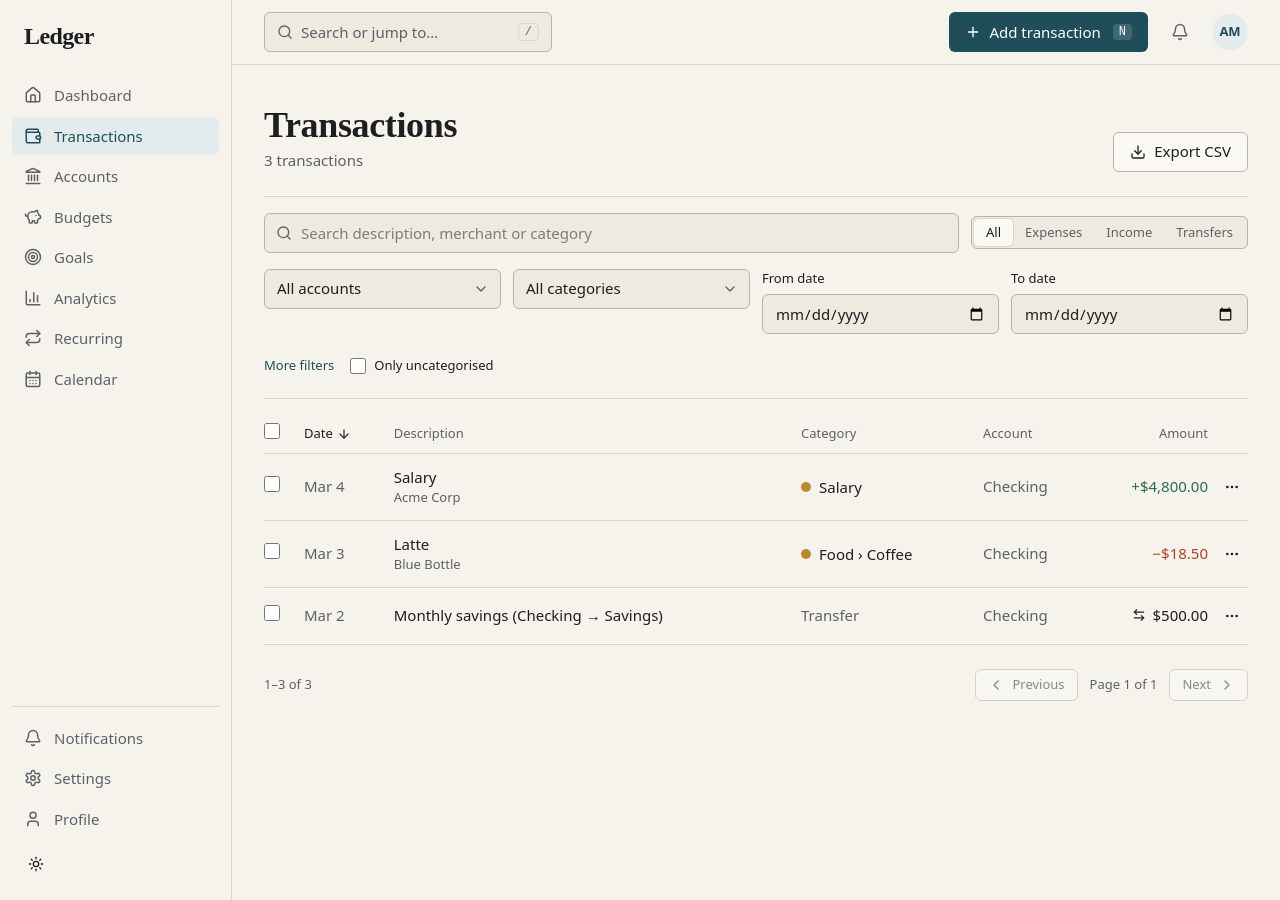
transactions list › rolls the row back and explains when the server refuses
This screenshot has width=1280, height=900.
Click the button named "Actions for Latte".
click(1232, 554)  # box [1216, 538, 1248, 570]
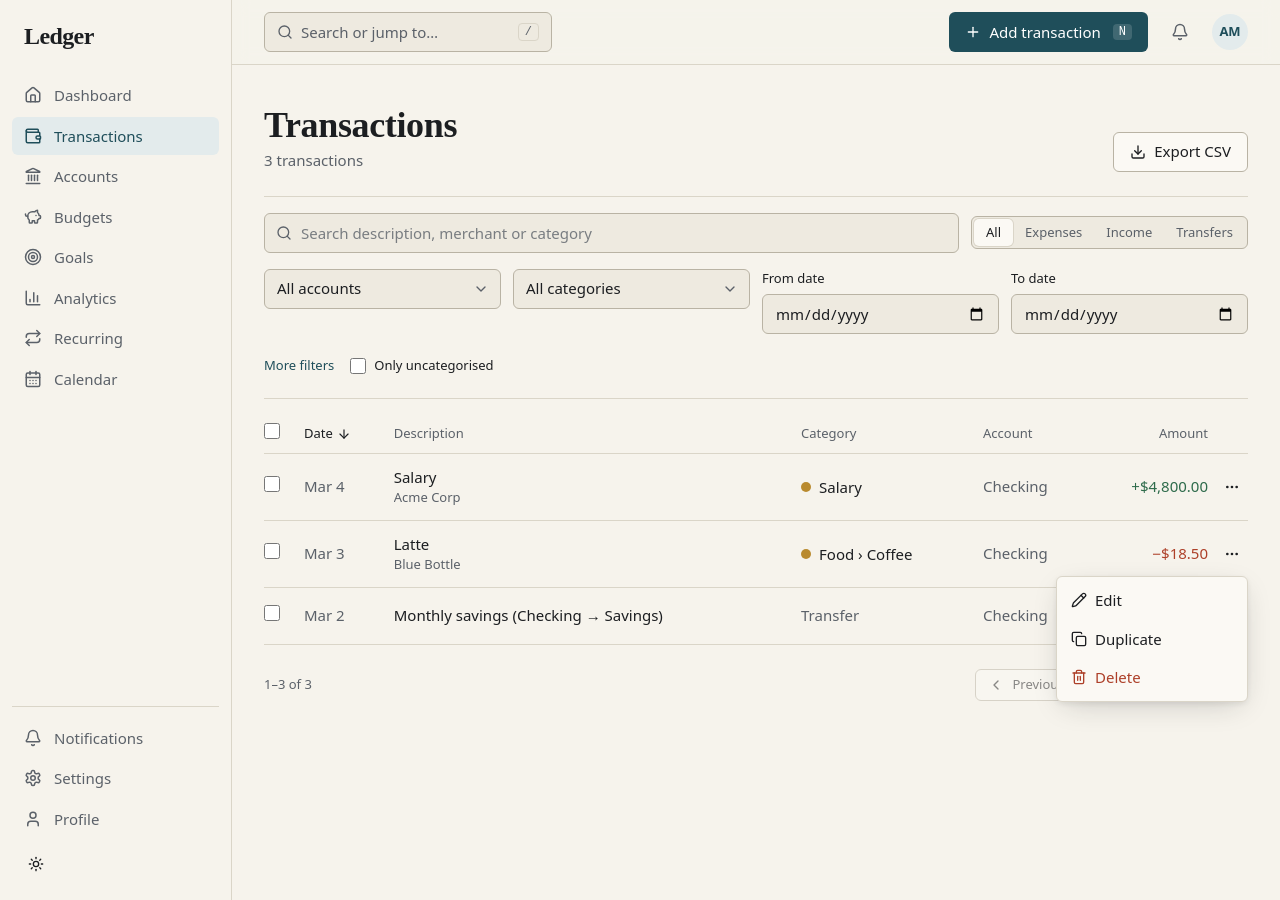
Click the menu item "Delete".
click(1106, 677)  # box [1071, 667, 1141, 687]
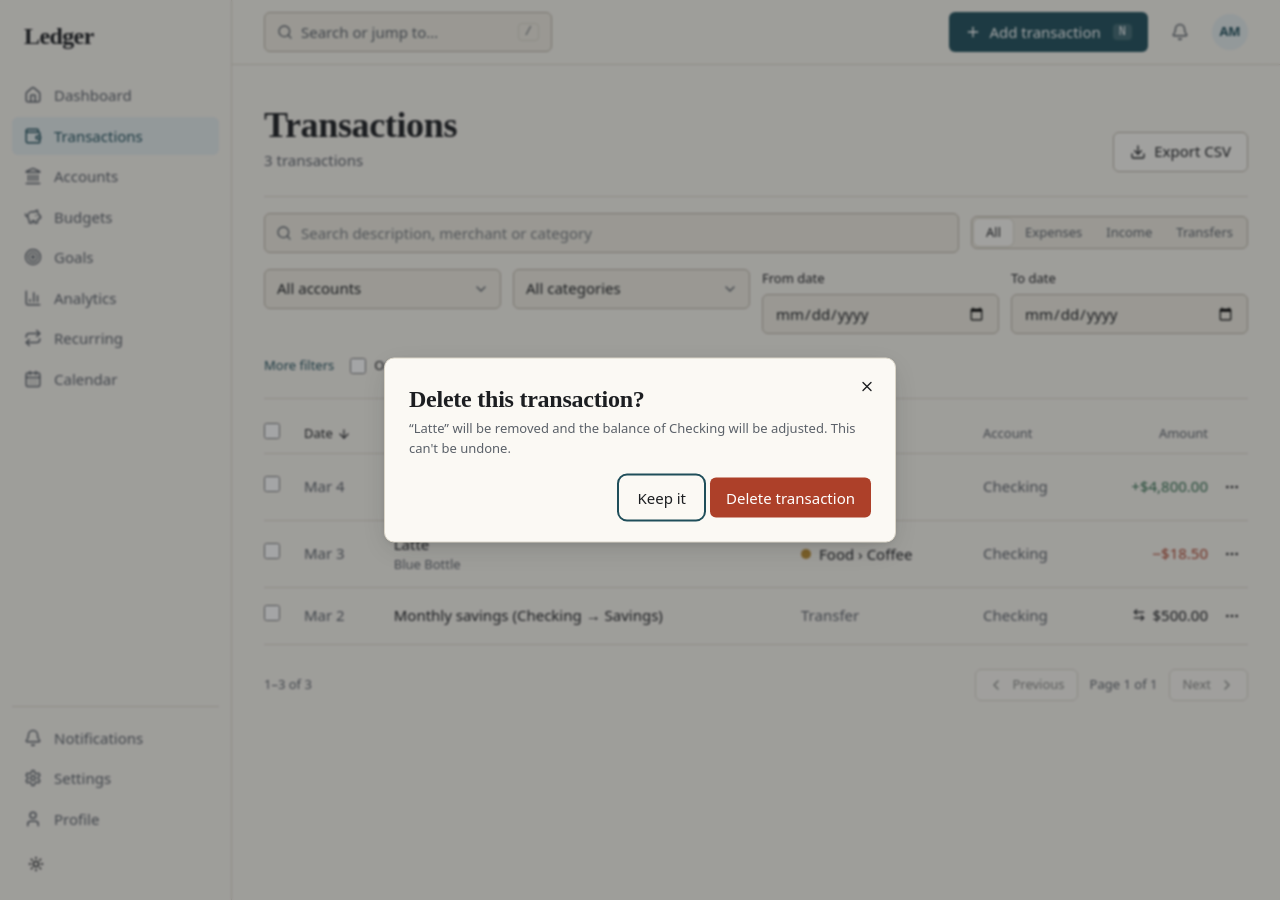
Click the button "Delete transaction".
click(790, 498)  # box [710, 478, 871, 518]
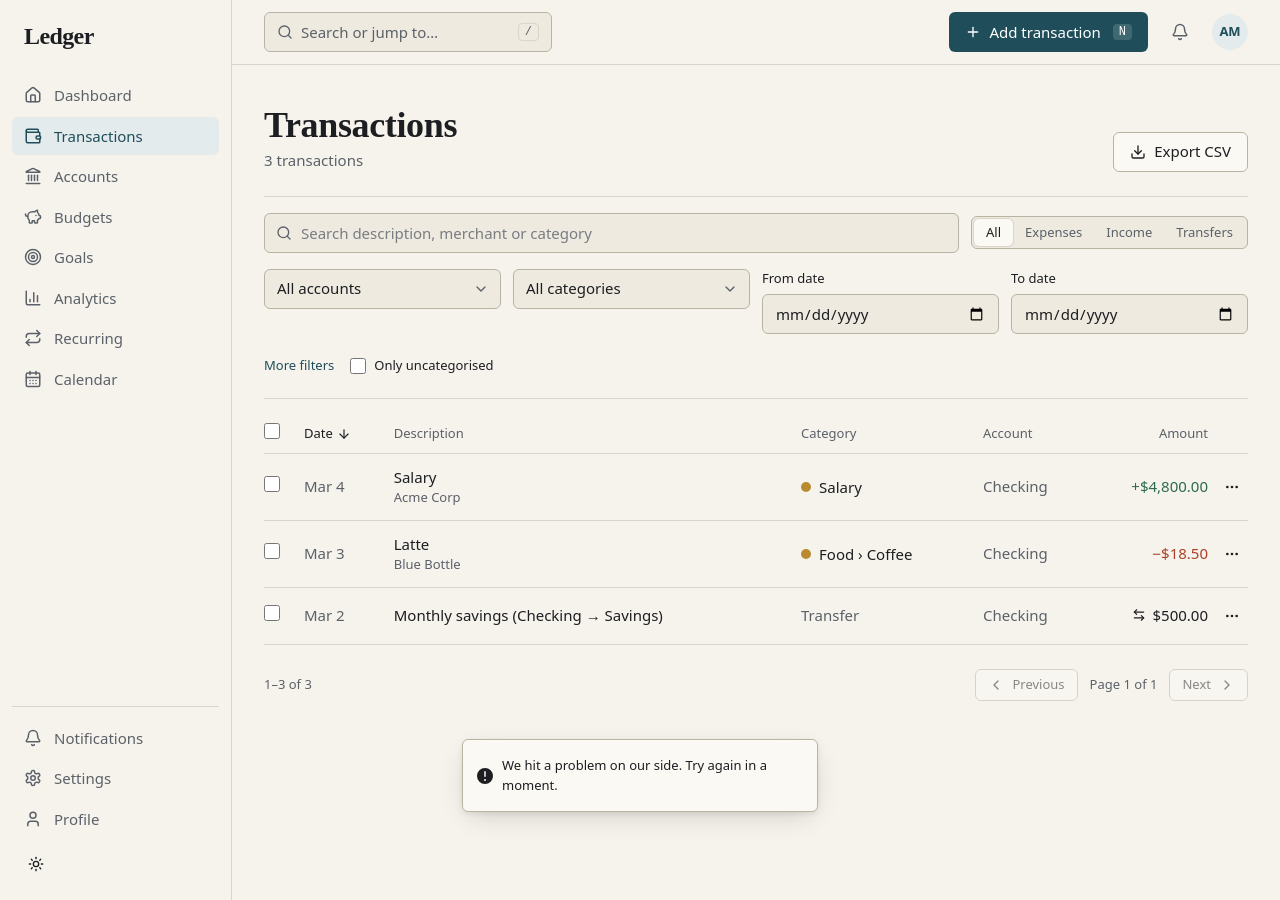
Expected: the link "Latte" is shown, [394, 534, 429, 554]
Result: the text "We hit a problem on our side. Try again in a moment." is shown at [502, 756, 801, 795]
